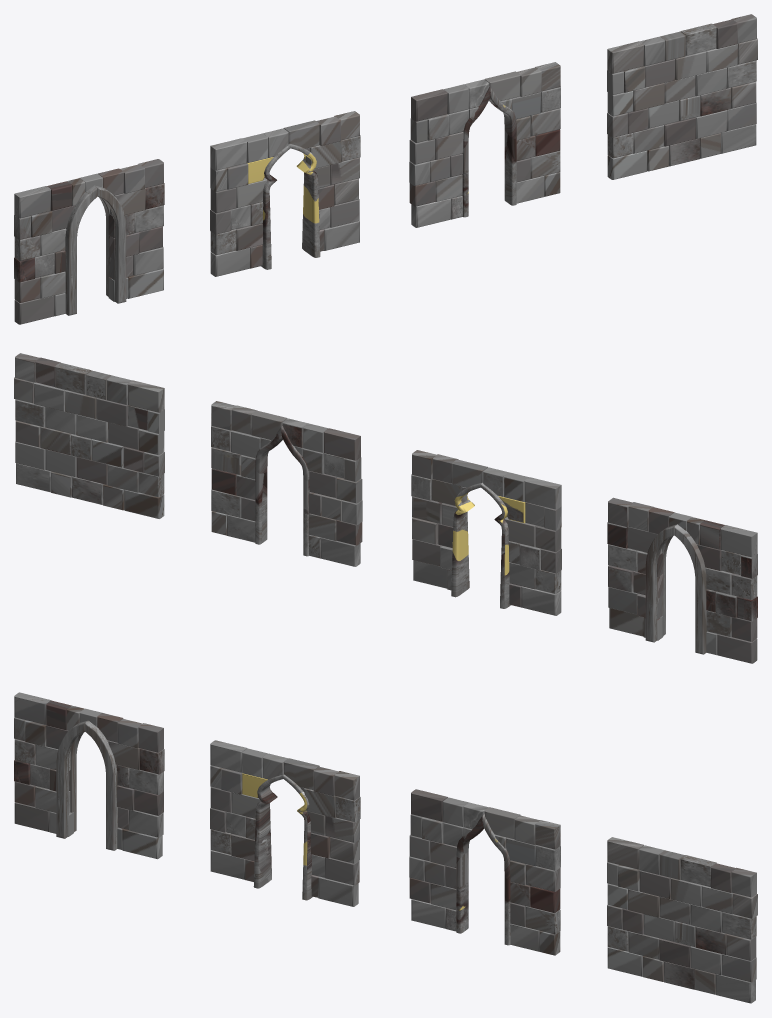
File: murs.fbx
3 renders of one model, top to bottom at view 1: azimuth 30°, elevation 25°; view 2: azimuth 150°, elevation 25°; view 3: azimuth 330°, elevation 25°, orthographic.
Visible parts, largest first — view 1: pCube362, pCube415, pCube455, pCube377; view 2: pCube362, pCube415, pCube455, pCube377; view 3: pCube362, pCube415, pCube455, pCube377.
Boxes of the visible parts, x1,y1,x2,y2 form: pCube362: (607,14,757,179); pCube415: (14,159,164,324); pCube455: (210,111,360,276); pCube377: (409,62,560,227); pCube362: (14,353,164,518); pCube415: (607,497,757,663); pCube455: (411,450,561,615); pCube377: (211,401,362,566); pCube362: (607,837,757,1003); pCube415: (14,692,164,859); pCube455: (210,740,360,906); pCube377: (409,789,560,955).
Bounding box in the file's own units: 256 × 42.65 × 8.42.
